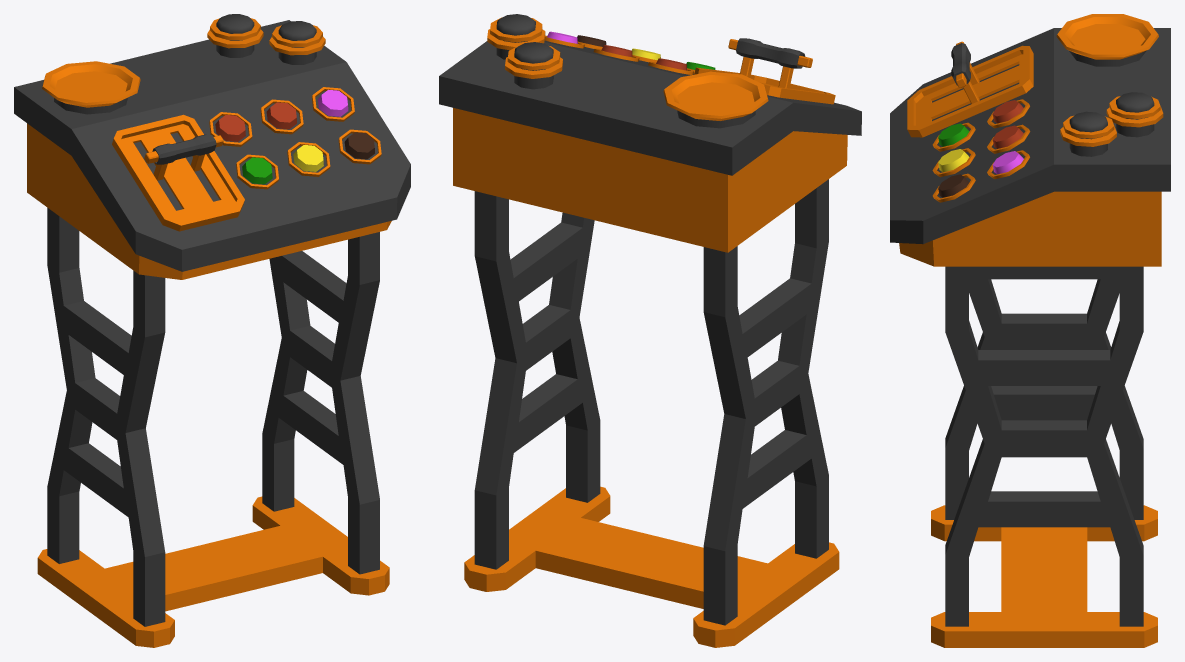
Rendered from Console.fbx.
The picture shows the model from 3 angles, left to right: view 1: azimuth 30°, elevation 25°; view 2: azimuth 150°, elevation 25°; view 3: azimuth 270°, elevation 25°; orthographic projection. The views are drawn at different scales.
Parts seen in each view (by area): view 1: ControlPanelBase, Lever, Button.002, Button.004, Button.003, Button.005, Button.006, Button.001; view 2: ControlPanelBase, Lever; view 3: ControlPanelBase, Lever, Button.001, Button.004, Button.006, Button.002, Button.003, Button.005.
Part boxes in pixels (left/top/right/bottom): ControlPanelBase: left=14, top=14, right=410, bottom=647; Lever: left=144, top=134, right=223, bottom=180; Button.002: left=266, top=102, right=296, bottom=129; Button.004: left=242, top=157, right=272, bottom=184; Button.003: left=318, top=89, right=348, bottom=116; Button.005: left=293, top=145, right=323, bottom=171; Button.006: left=344, top=132, right=374, bottom=159; Button.001: left=215, top=115, right=245, bottom=141; ControlPanelBase: left=439, top=14, right=861, bottom=647; Lever: left=728, top=38, right=812, bottom=88; ControlPanelBase: left=890, top=14, right=1170, bottom=647; Lever: left=951, top=41, right=979, bottom=103; Button.001: left=992, top=100, right=1023, bottom=123; Button.004: left=938, top=123, right=969, bottom=146; Button.006: left=938, top=174, right=969, bottom=197; Button.002: left=992, top=125, right=1023, bottom=148; Button.003: left=992, top=151, right=1023, bottom=174; Button.005: left=938, top=149, right=969, bottom=172.
Bounding box in the file's own units: 63.67 × 113 × 55.3.
